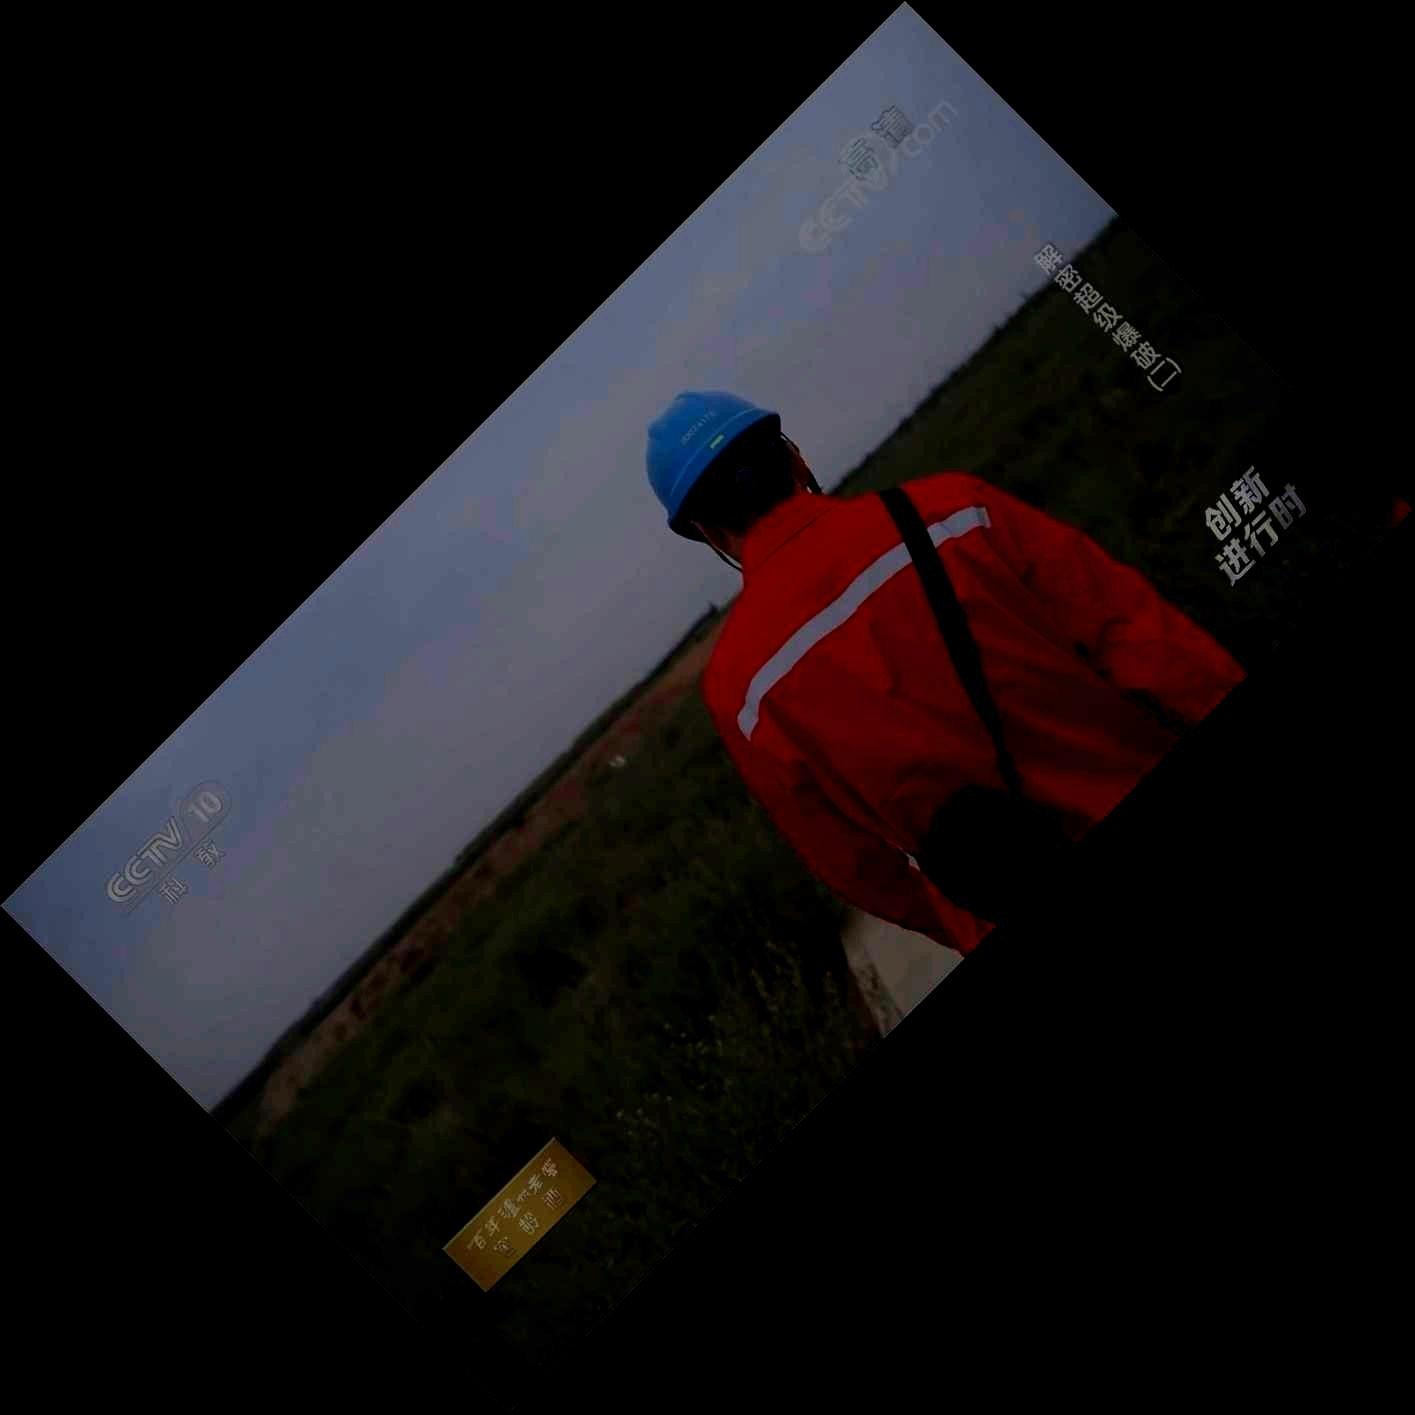helmet: (644, 387, 809, 562)
